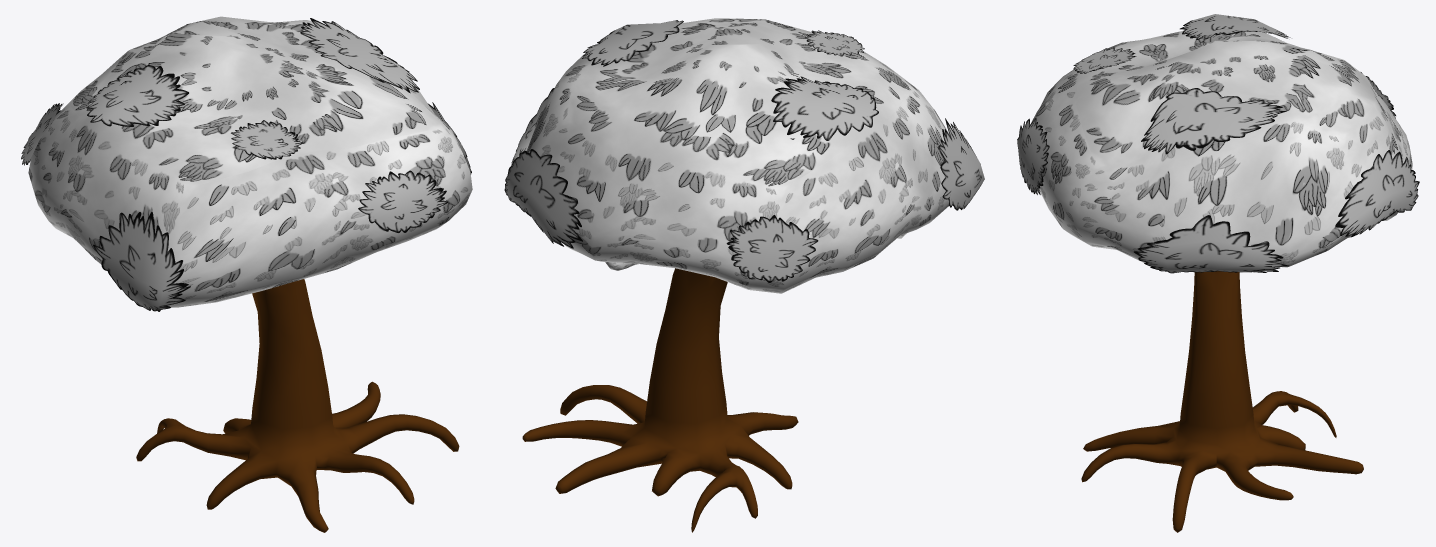
The model's file is TreeNormal01.fbx.
The picture shows the model from 3 angles, left to right: view 1: azimuth 30°, elevation 25°; view 2: azimuth 150°, elevation 25°; view 3: azimuth 270°, elevation 25°; orthographic projection. The views are drawn at different scales.
Parts seen in each view (by area): view 1: TreeNormal; view 2: TreeNormal; view 3: TreeNormal.
Part boxes in pixels (x1,y1,x2,y2): TreeNormal: (21, 16, 472, 532); TreeNormal: (504, 18, 984, 532); TreeNormal: (1017, 14, 1419, 532).
Size of the model in its own units: 613 by 677 by 613.
Materials: 5 (4 with a texture image).
